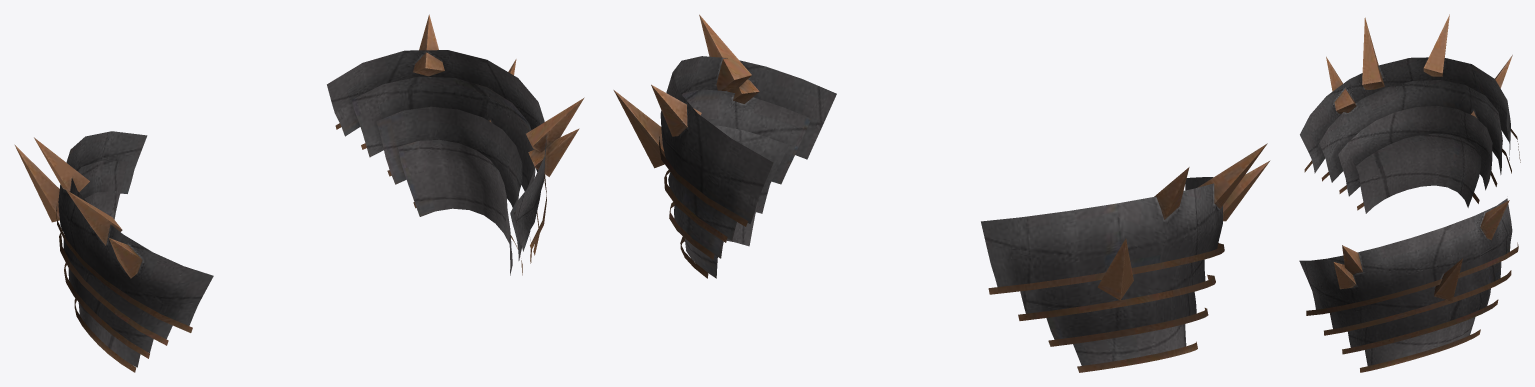
The model's file is Ombreiras_de_Placas_nivel75.glb.
3 renders of one model, left to right at view 1: azimuth 30°, elevation 25°; view 2: azimuth 150°, elevation 25°; view 3: azimuth 270°, elevation 25°, orthographic. The views are drawn at different scales.
Visible parts, largest first — view 1: ombreiras_de_placas_nivel75; view 2: ombreiras_de_placas_nivel75; view 3: ombreiras_de_placas_nivel75.
Boxes of the visible parts, x1,y1,x2,y2 form: ombreiras_de_placas_nivel75: (14, 14, 584, 372); ombreiras_de_placas_nivel75: (613, 14, 1270, 372); ombreiras_de_placas_nivel75: (1299, 14, 1520, 372).
Size of the model in its own units: 0.7155 by 0.2804 by 0.3169.
1 material, 1 textured.
